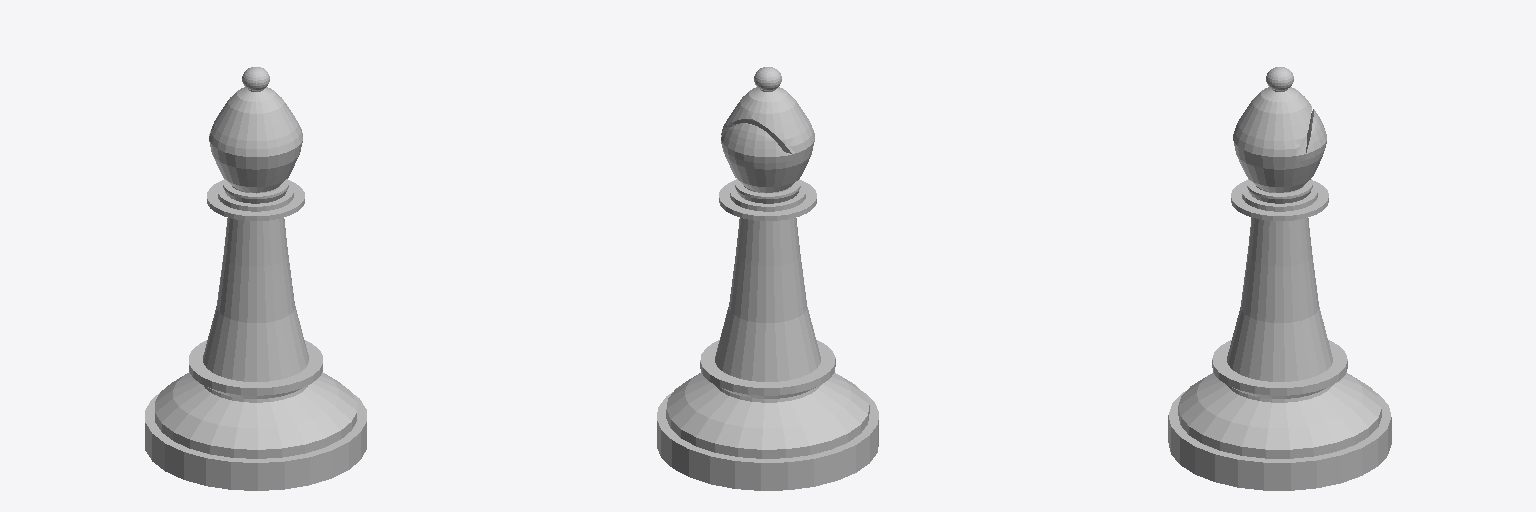
File: bishop_black.obj
3 renders of one model, left to right at view 1: azimuth 30°, elevation 25°; view 2: azimuth 150°, elevation 25°; view 3: azimuth 270°, elevation 25°, orthographic.
Parts seen in each view (by area): view 1: bishop_black_bishop.001; view 2: bishop_black_bishop.001; view 3: bishop_black_bishop.001.
Boxes of the visible parts, <box> form: bishop_black_bishop.001: <box>145,67,366,490</box>; bishop_black_bishop.001: <box>657,67,878,490</box>; bishop_black_bishop.001: <box>1168,67,1391,490</box>.
Size of the model in its own units: 4.02 by 7.5 by 4.04.